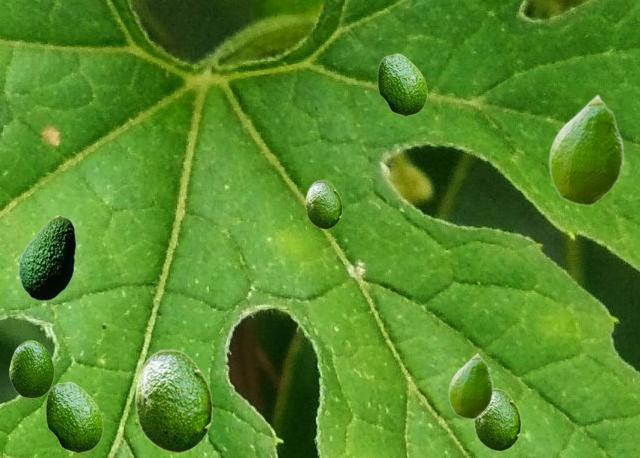avocado: (548, 93, 623, 205), (134, 349, 212, 452), (18, 215, 75, 300), (45, 381, 102, 452), (377, 53, 426, 115), (473, 388, 520, 450), (448, 352, 492, 418), (9, 340, 53, 397), (305, 180, 341, 228)
